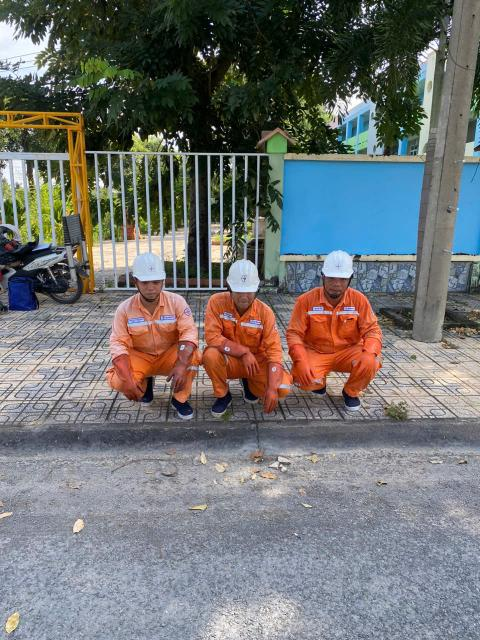gloves: (106, 351, 147, 405), (166, 339, 194, 398), (218, 338, 259, 378), (262, 361, 284, 421), (289, 341, 312, 390), (358, 333, 382, 376)
helmet: (308, 245, 364, 286), (117, 250, 183, 282), (218, 262, 269, 303)
shoes: (211, 392, 237, 424), (171, 392, 197, 422), (140, 376, 164, 407), (343, 384, 366, 416), (238, 377, 258, 411), (312, 380, 336, 404)
